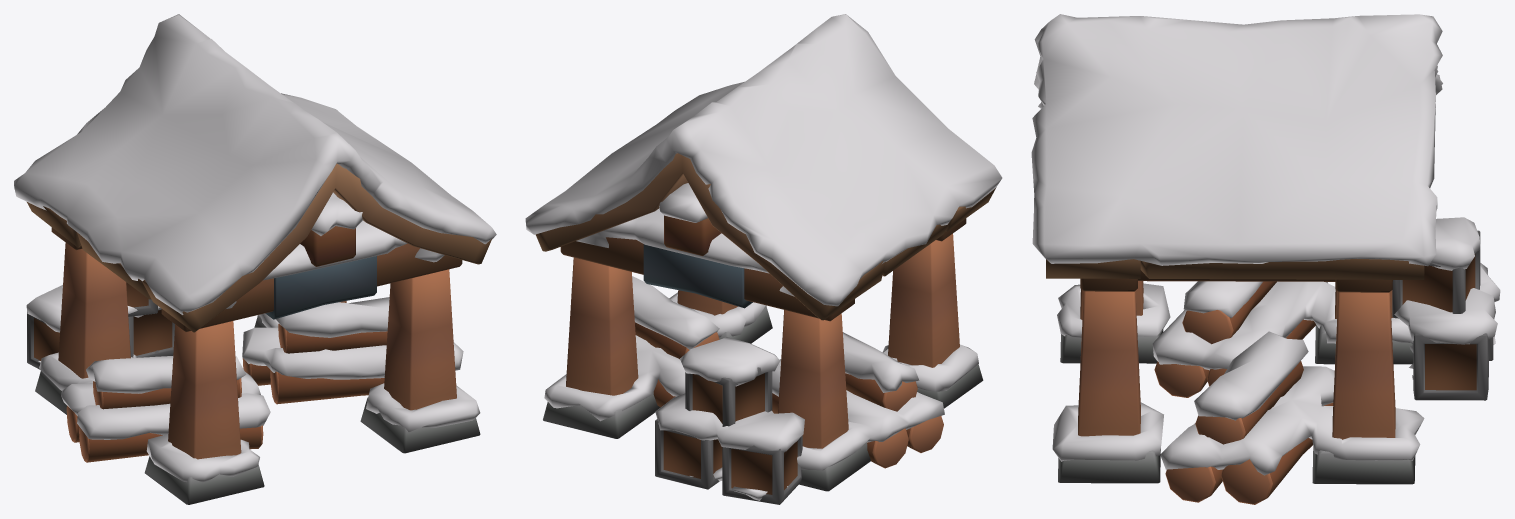
File: WoodWorkSpaceSnowy_1.fbx
3 renders of one model, left to right at view 1: azimuth 30°, elevation 25°; view 2: azimuth 150°, elevation 25°; view 3: azimuth 270°, elevation 25°, orthographic. The views are drawn at different scales.
Visible parts, largest first — view 1: WoodWorkSpaceSnowy_1; view 2: WoodWorkSpaceSnowy_1; view 3: WoodWorkSpaceSnowy_1.
Part boxes in pixels (x1=…): WoodWorkSpaceSnowy_1: x1=14, y1=14, x2=496, y2=504; WoodWorkSpaceSnowy_1: x1=525, y1=14, x2=1002, y2=504; WoodWorkSpaceSnowy_1: x1=1031, y1=14, x2=1500, y2=504.
Size of the model in its own units: 232 by 215 by 229.
